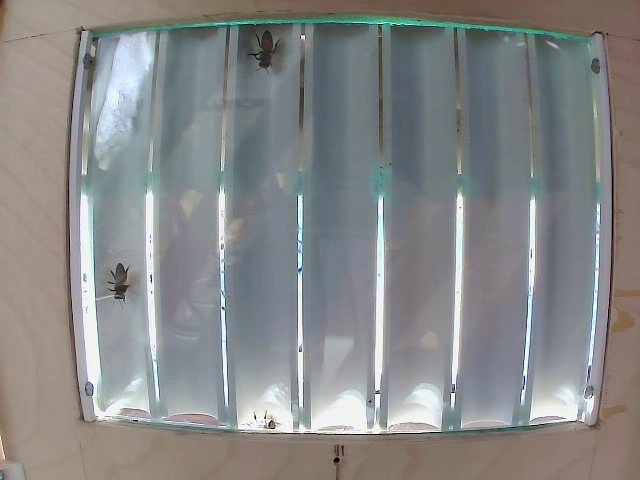bee: (256, 32, 280, 81), (107, 265, 134, 308)
